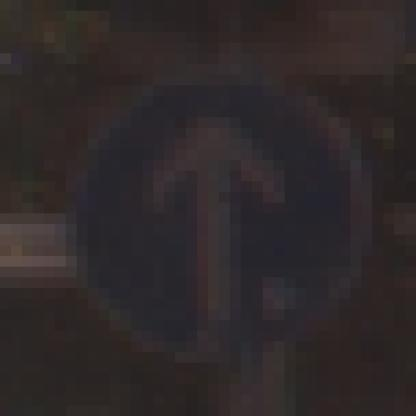AheadOnly: (67, 65, 362, 364)
